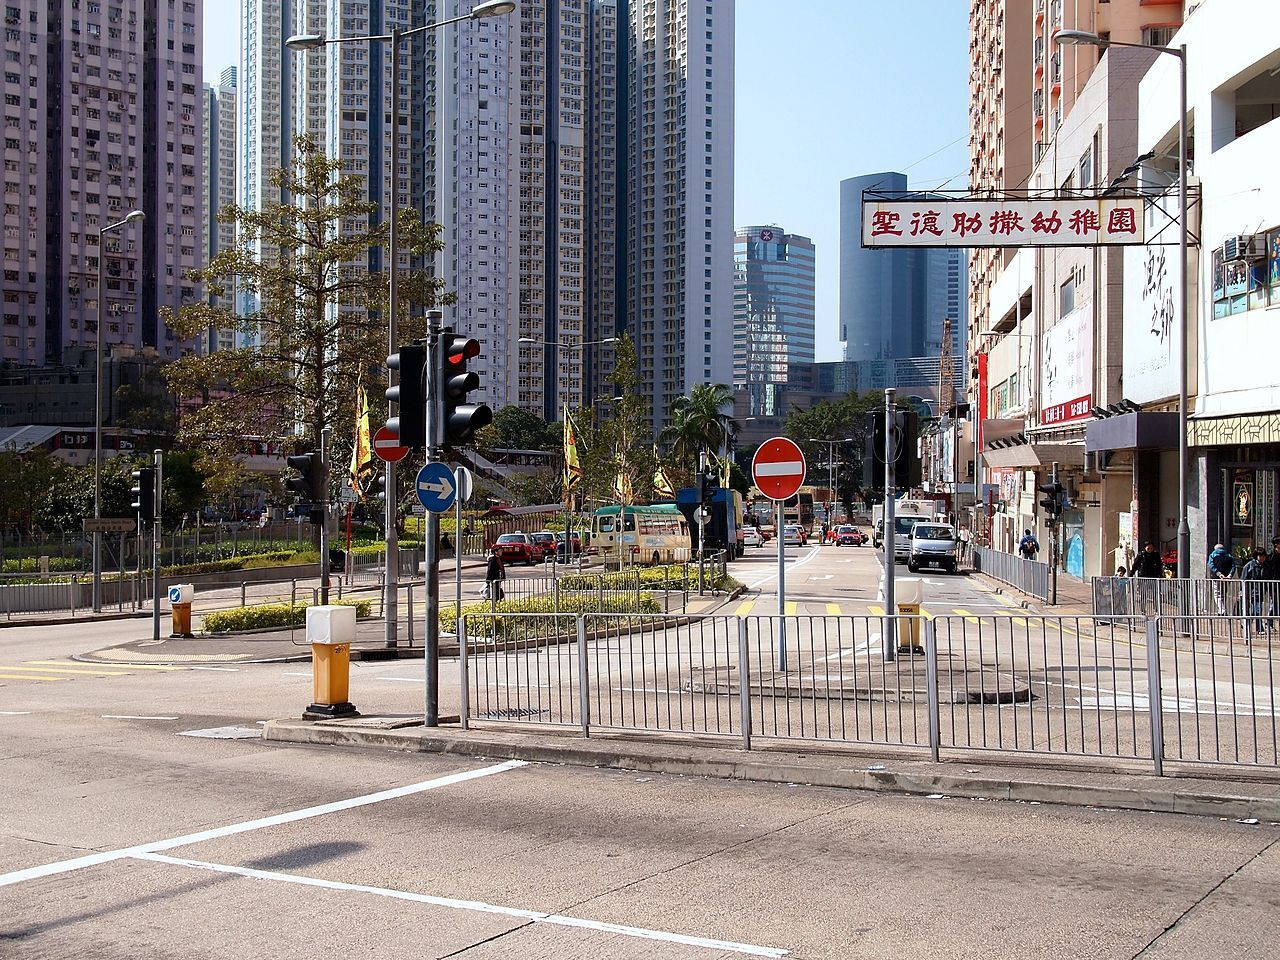No Enter: (751, 437, 808, 503), (371, 425, 409, 462)
Turn Right: (417, 463, 457, 517)
